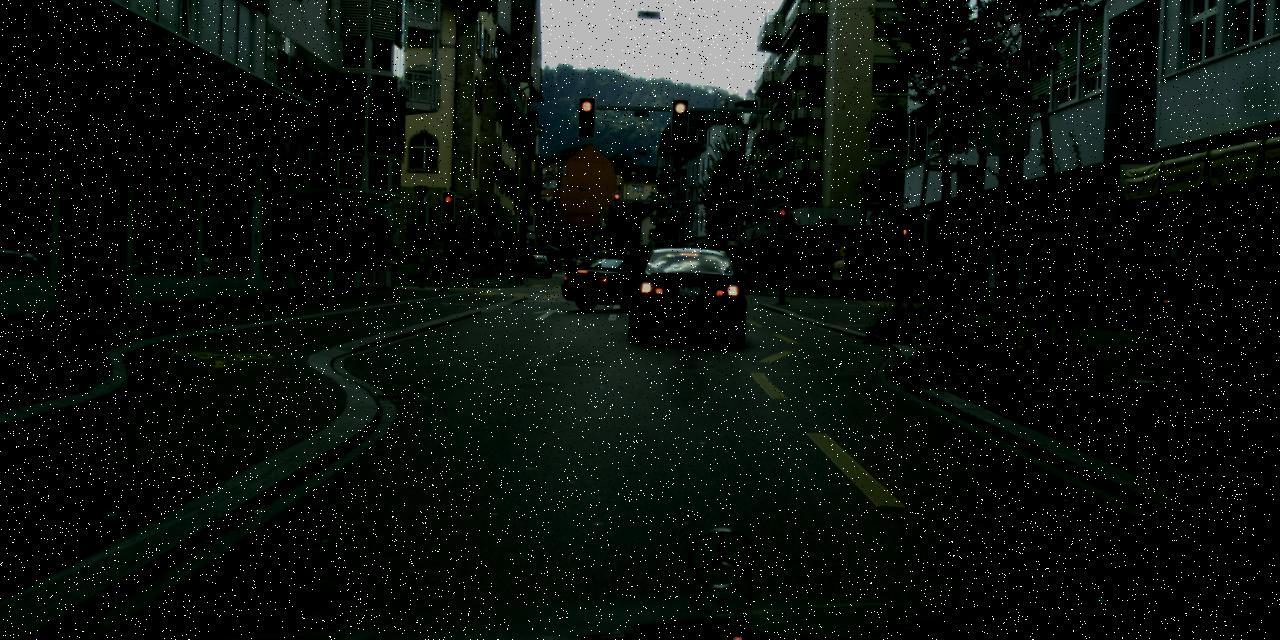ped: (288, 225, 318, 301), (260, 225, 290, 300), (382, 242, 399, 286), (428, 248, 444, 286), (513, 248, 527, 283), (570, 256, 584, 269)
